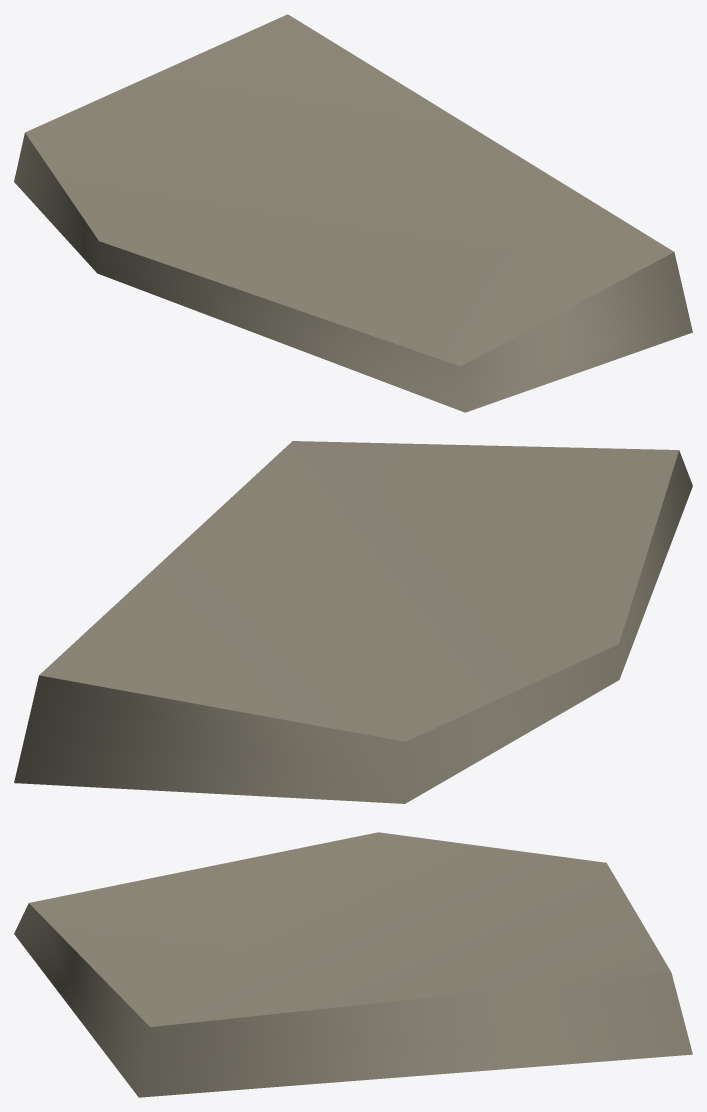
File: Stones_1d.fbx
3 renders of one model, top to bottom at view 1: azimuth 30°, elevation 25°; view 2: azimuth 150°, elevation 25°; view 3: azimuth 270°, elevation 25°, orthographic. The views are drawn at different scales.
Visible parts, largest first — view 1: Stones_1d; view 2: Stones_1d; view 3: Stones_1d.
Part boxes in pixels (x1,y1,x2,y2): Stones_1d: (14,14,692,412); Stones_1d: (14,441,692,803); Stones_1d: (14,832,692,1097).
Bounding box in the file's own units: 23.72 × 5.36 × 36.82.
